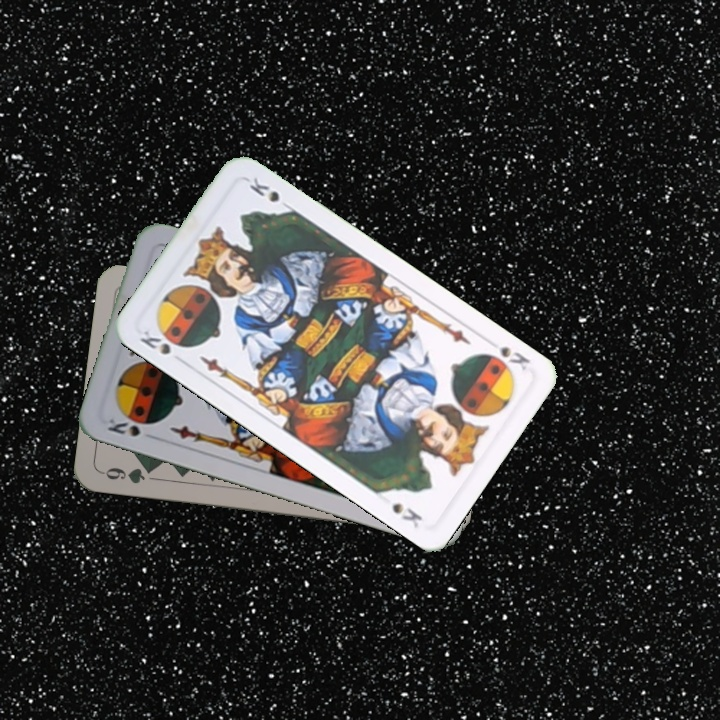G9: (98, 462, 158, 487)
SK: (482, 334, 533, 373), (135, 323, 174, 358), (102, 414, 143, 440)
